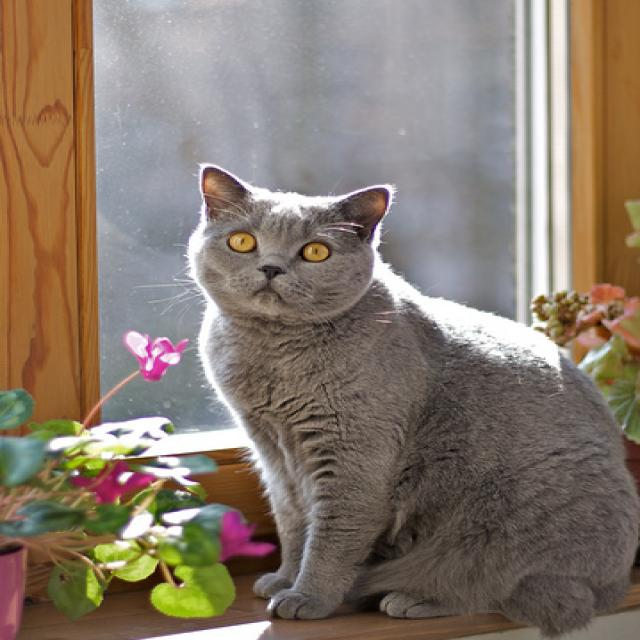British Shorthair: (182, 159, 640, 639)
